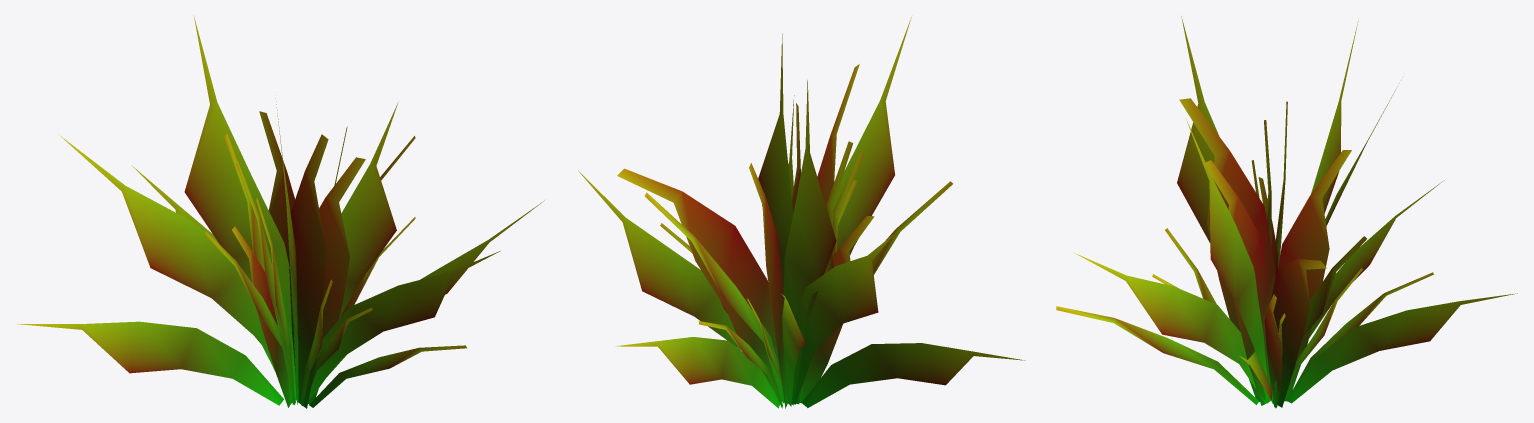
The model's file is tmjhcayia_Var6_LOD1.fbx.
3 views of the same model, side by side, from view 1: azimuth 30°, elevation 25°; view 2: azimuth 150°, elevation 25°; view 3: azimuth 270°, elevation 25° (orthographic). The views are drawn at different scales.
Visible parts, largest first — view 1: Var6_LOD1; view 2: Var6_LOD1; view 3: Var6_LOD1.
Part boxes in pixels (x1,y1,x2,y2): Var6_LOD1: (17, 15, 544, 408); Var6_LOD1: (578, 17, 1025, 408); Var6_LOD1: (1056, 16, 1517, 408).
Size of the model in its own units: 11.64 by 8.45 by 9.87.
